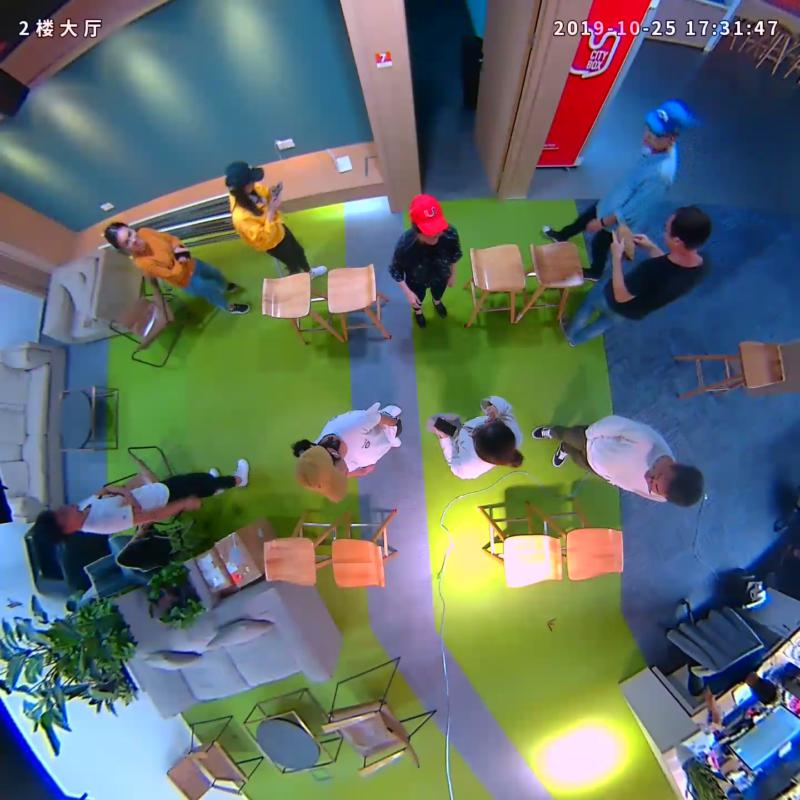head: (293, 442, 347, 502), (643, 461, 705, 509), (641, 99, 692, 151), (471, 419, 517, 466), (663, 207, 711, 252), (409, 193, 449, 238), (35, 504, 81, 542), (225, 161, 266, 194), (104, 221, 142, 253)
